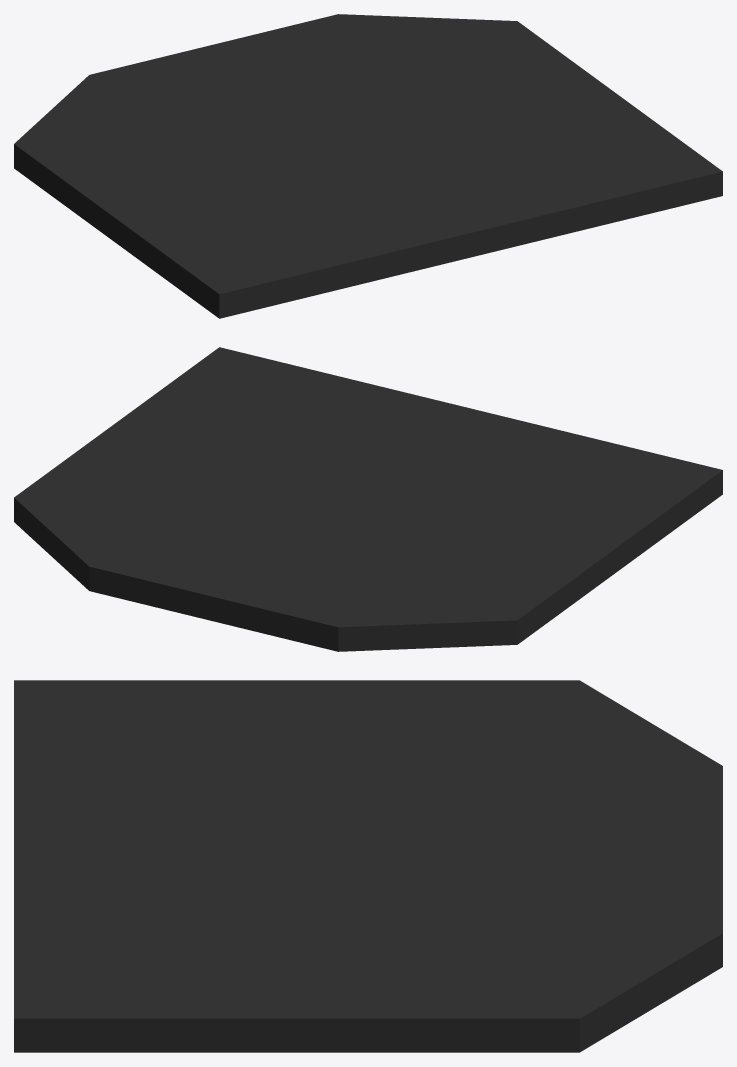
File: bridge_ceiling.glb
3 views of the same model, one above another, from view 1: azimuth 30°, elevation 25°; view 2: azimuth 150°, elevation 25°; view 3: azimuth 270°, elevation 25° (orthographic). The views are drawn at different scales.
Visible parts, largest first — view 1: model; view 2: model; view 3: model.
Boxes of the visible parts, x1,y1,x2,y2 form: model: (14, 14, 722, 318); model: (14, 347, 722, 651); model: (14, 680, 722, 1052).
Bounding box in the file's own units: 15.96 × 0.7643 × 14.13.
Materials: 1 (1 with a texture image).
